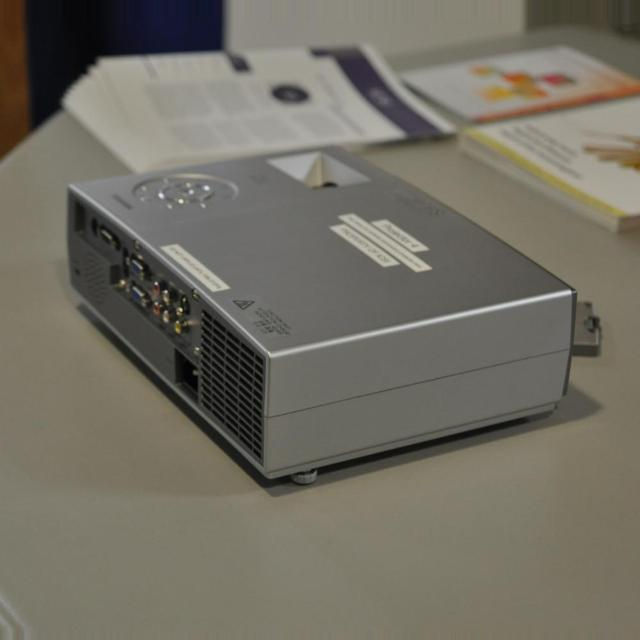Projector: (67, 145, 578, 489)
